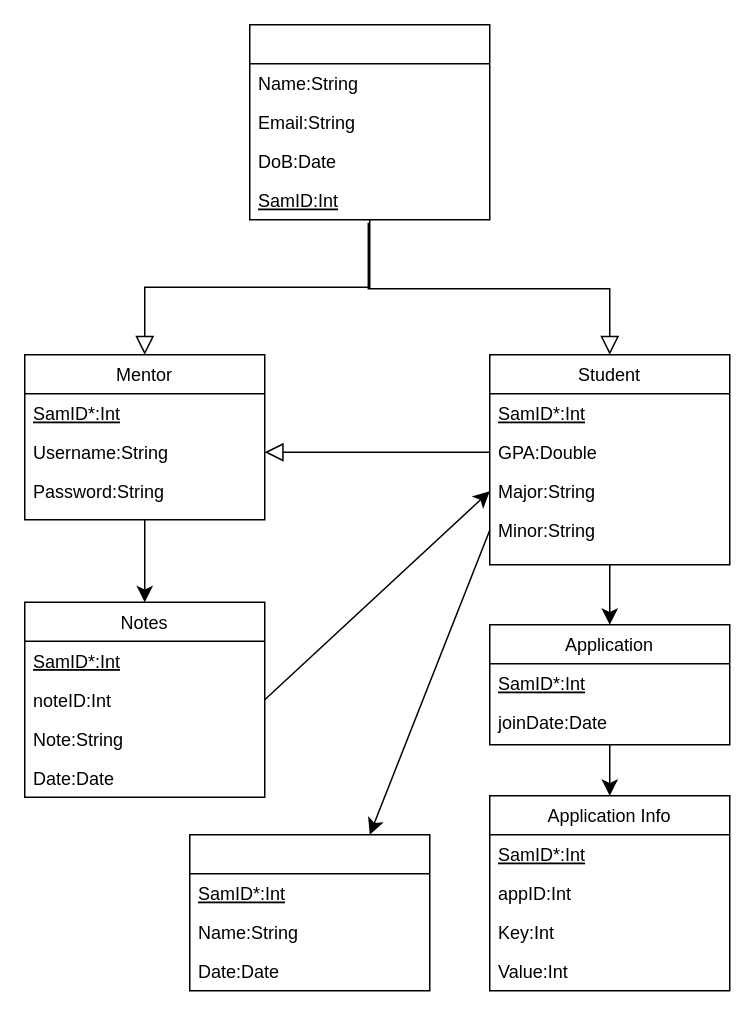
This 755x1016 diagram has some shape labels left out. The box of each missing label's shape, as (x1, y1, x2, y2) in pixels:
Event: (188, 833, 430, 991)
Person: (248, 23, 490, 220)
